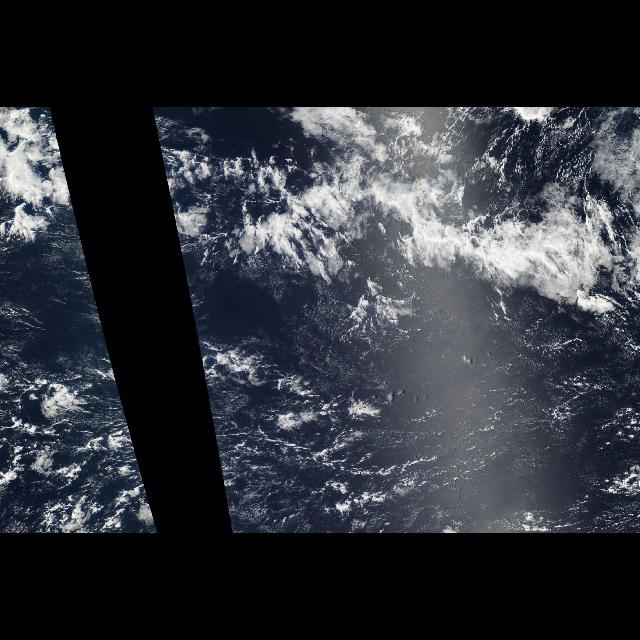Gravel: (197, 342, 401, 532), (2, 342, 158, 532)
Sugar: (235, 264, 640, 534)
